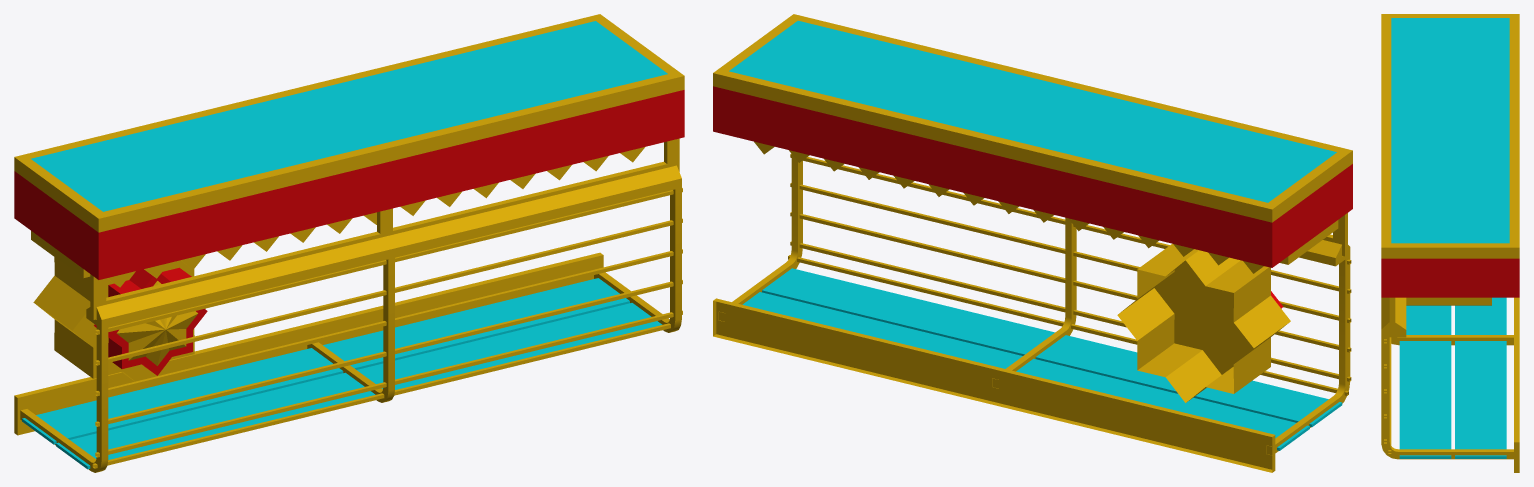
The model's file is SbS_Rift.fbx.
The picture shows the model from 3 angles, left to right: view 1: azimuth 30°, elevation 25°; view 2: azimuth 150°, elevation 25°; view 3: azimuth 270°, elevation 25°; orthographic projection. The views are drawn at different scales.
Visible parts, largest first — view 1: SbS_Level_02, obj7, obj4; view 2: SbS_Level_02, obj7, obj4; view 3: SbS_Level_02, obj7.
Part boxes in pixels (x1,y1,x2,y2): SbS_Level_02: (14,14,684,319); obj7: (14,165,682,472); obj4: (33,257,207,387); SbS_Level_02: (713,14,1352,273); obj7: (713,153,1351,472); obj4: (1117,243,1290,402); SbS_Level_02: (1381,14,1519,333); obj7: (1381,297,1519,472).
Bounding box in the file's own units: 1000 × 450 × 250.
